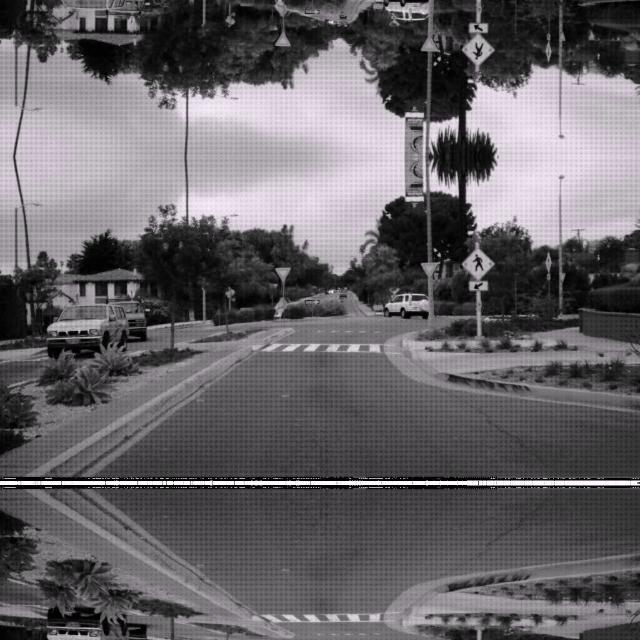pedestrianCrossing: (462, 245, 494, 279), (462, 33, 494, 67)
yield: (420, 260, 438, 276), (420, 36, 438, 52), (274, 266, 290, 280), (274, 32, 290, 46)
